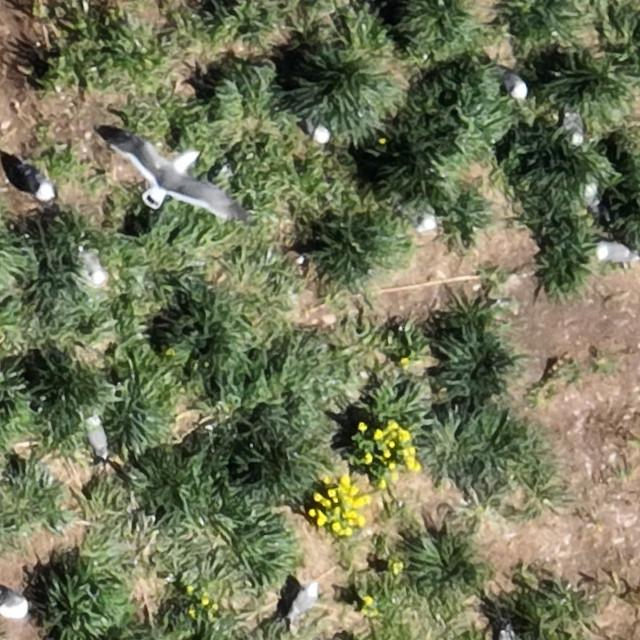F: (132, 141, 222, 209)
umineko: (24, 171, 54, 202), (291, 585, 319, 615), (1, 590, 29, 616), (88, 422, 108, 458), (597, 242, 632, 262), (503, 74, 528, 100), (568, 114, 585, 146), (307, 122, 329, 144)
